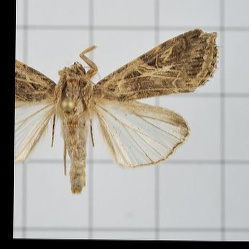Spodoptera litura: (14, 27, 217, 196)
